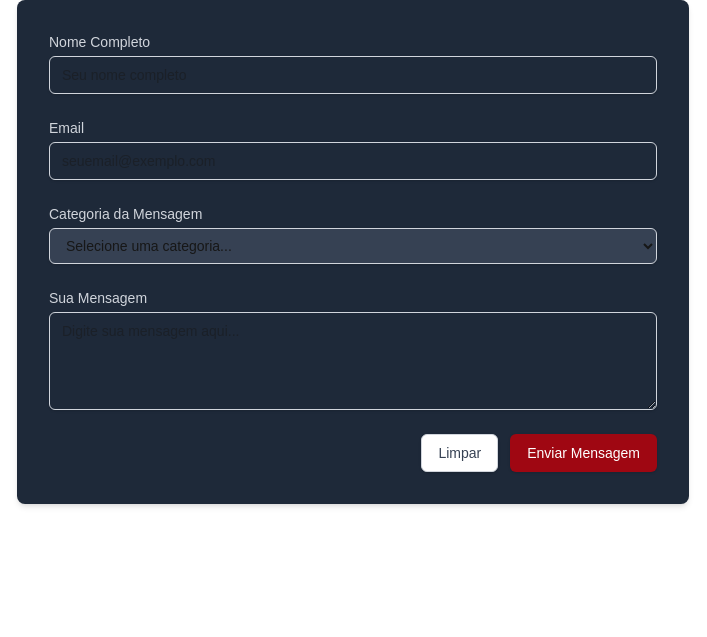
FormContato Component › Validação de Erros › deve exibir erro de validação para mensagem muito curta
Type "curta" into the text box labelled "Sua Mensagem".
click(353, 361); type("curta")  # box [49,312,657,410]
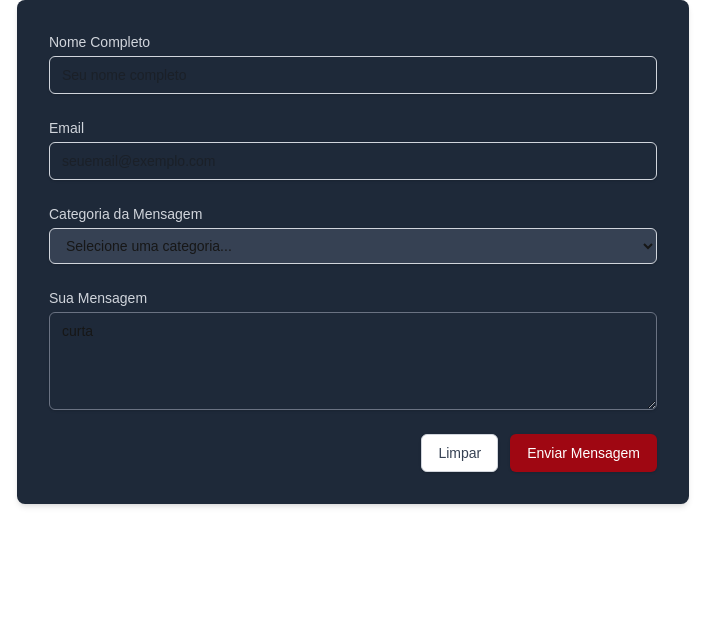
Click the button "Enviar Mensagem".
click(584, 453)  # box [510,434,657,472]
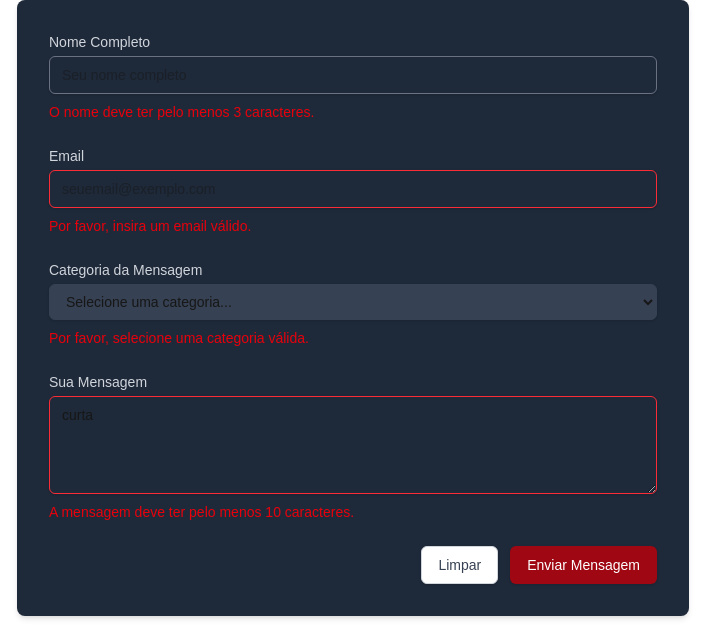
Now the text "A mensagem deve ter pelo menos 10 caracteres." is shown, box [49,504,354,520]
